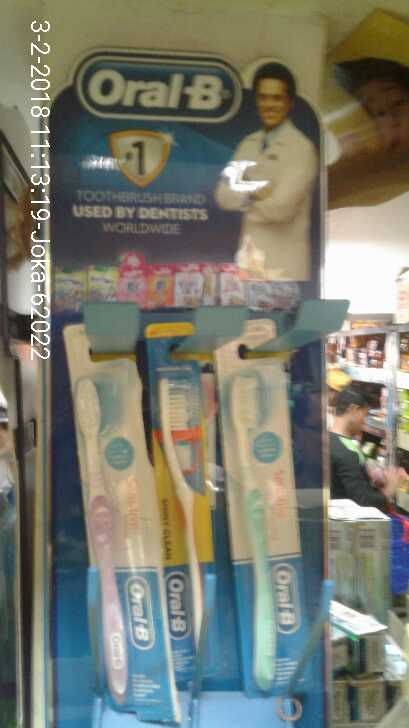oralb: (58, 338, 187, 706), (211, 334, 320, 692), (139, 320, 215, 690)
